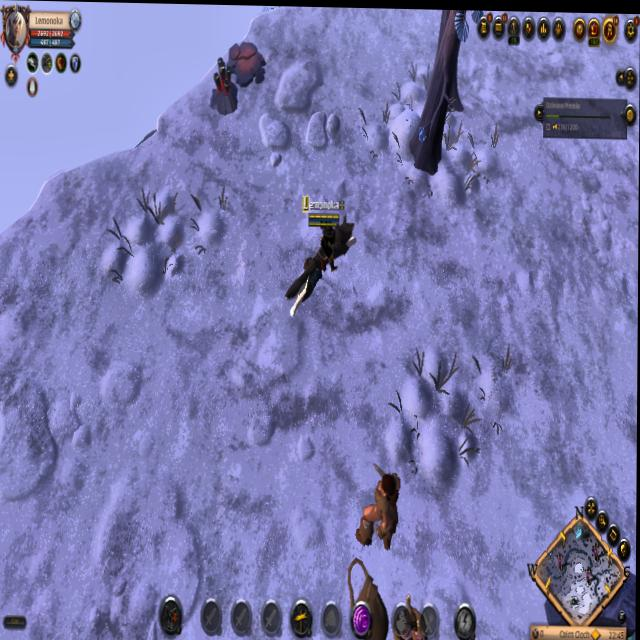ore tier 5: (210, 54, 240, 116)
